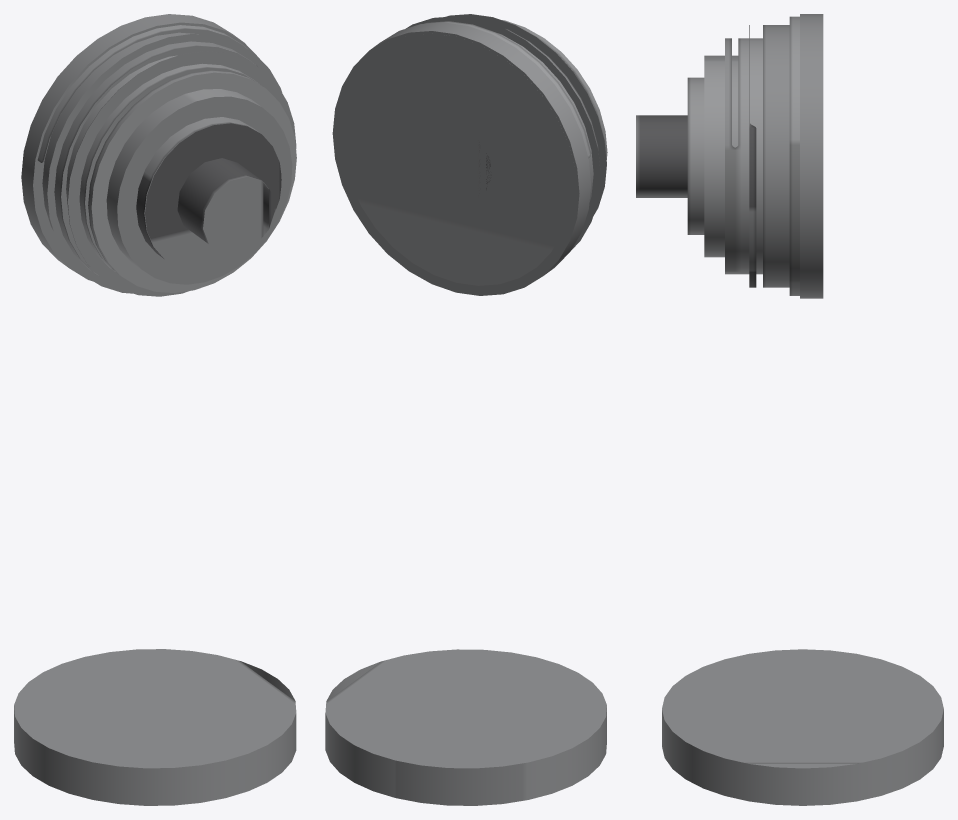
3 renders of one model, left to right at view 1: azimuth 30°, elevation 25°; view 2: azimuth 150°, elevation 25°; view 3: azimuth 270°, elevation 25°, orthographic.
Bounding box in the file's own units: 0.8288 × 2.31 × 0.8957.
